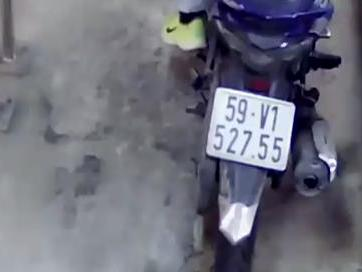num_plate: (203, 84, 296, 173)
